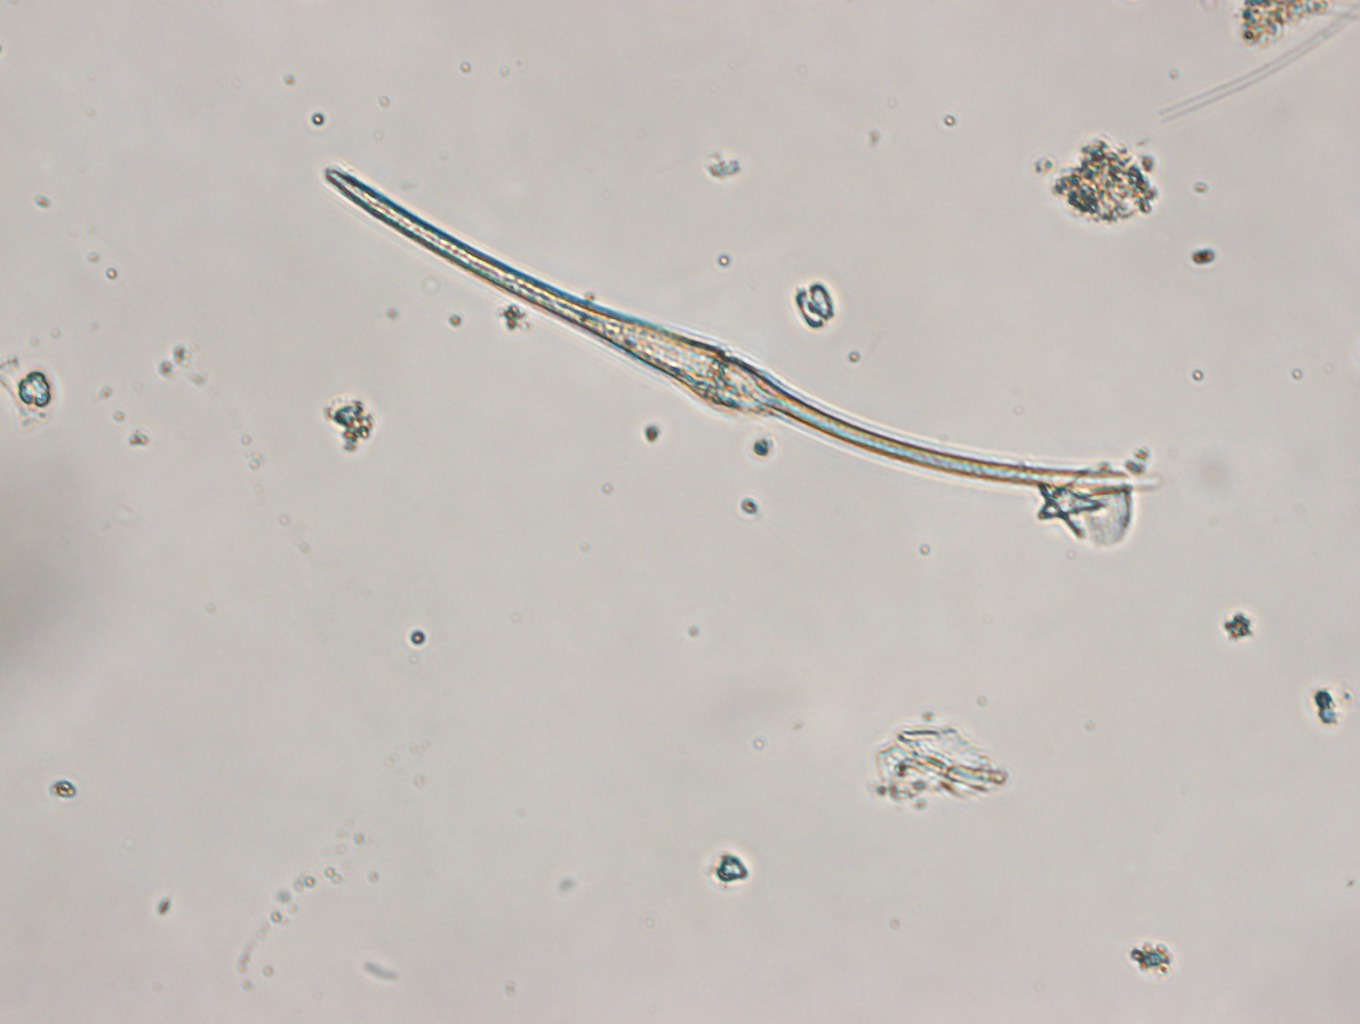ceratium furca: (315, 156, 1155, 503)
